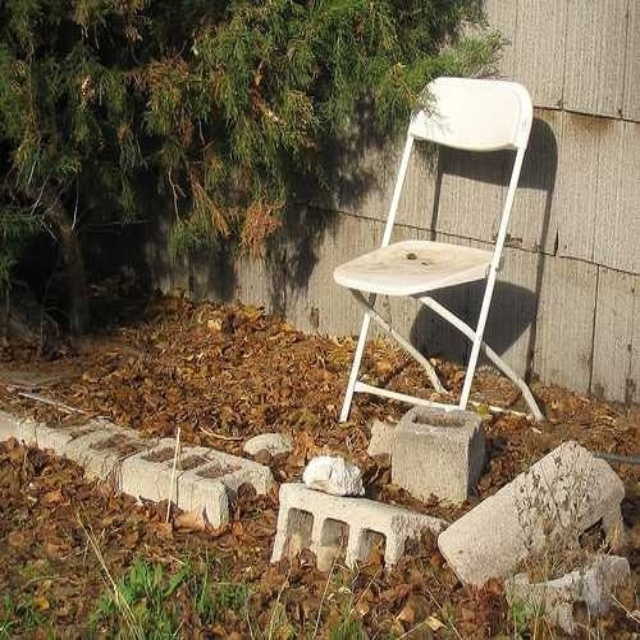obstacle: (334, 78, 541, 419)
